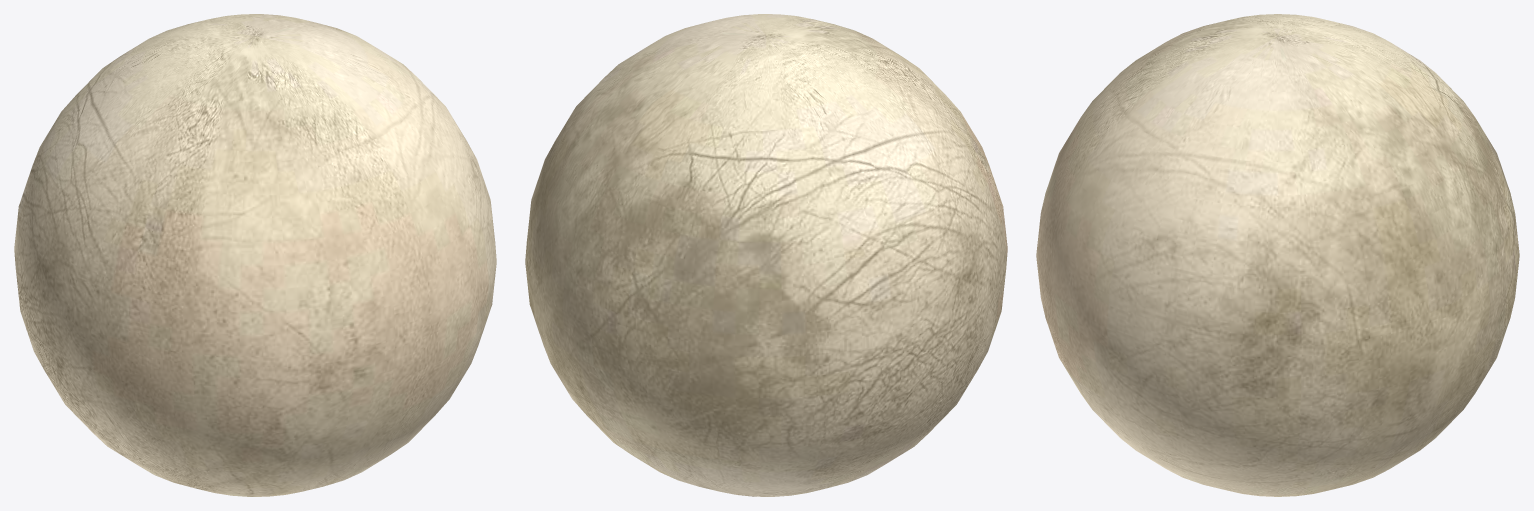
File: europe.glb
3 renders of one model, left to right at view 1: azimuth 30°, elevation 25°; view 2: azimuth 150°, elevation 25°; view 3: azimuth 270°, elevation 25°, orthographic.
Parts seen in each view (by area): view 1: Europe; view 2: Europe; view 3: Europe.
Boxes of the visible parts, box(x1,y1,x2,y2) form: Europe: box(14, 14, 496, 496); Europe: box(525, 14, 1007, 496); Europe: box(1036, 14, 1519, 496).
Size of the model in its own units: 15 by 15 by 15.
Materials: 1 (1 with a texture image).
